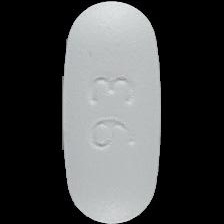42291-305: (0, 0, 224, 224)
